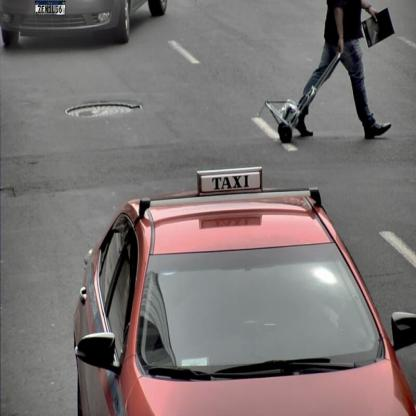PlacaM: (35, 1, 65, 15)
